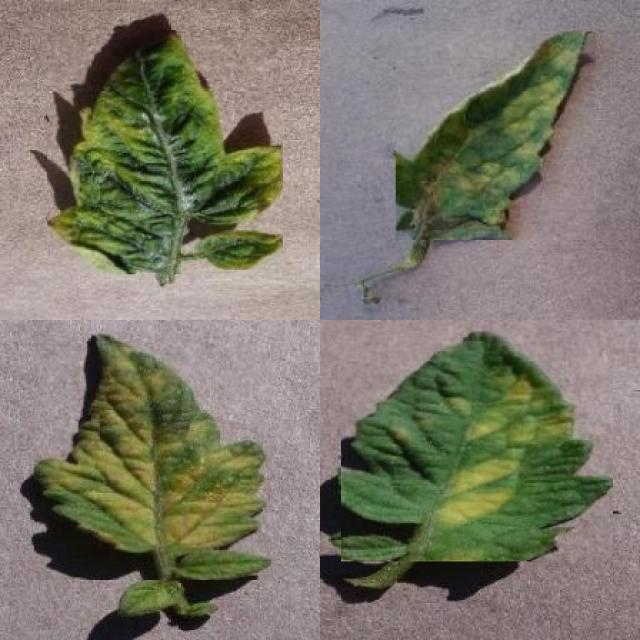Leaf Mold: (340, 328, 613, 562), (35, 332, 272, 580), (396, 32, 596, 240)
Yellow Leaf Curl Virus: (47, 30, 283, 274)
